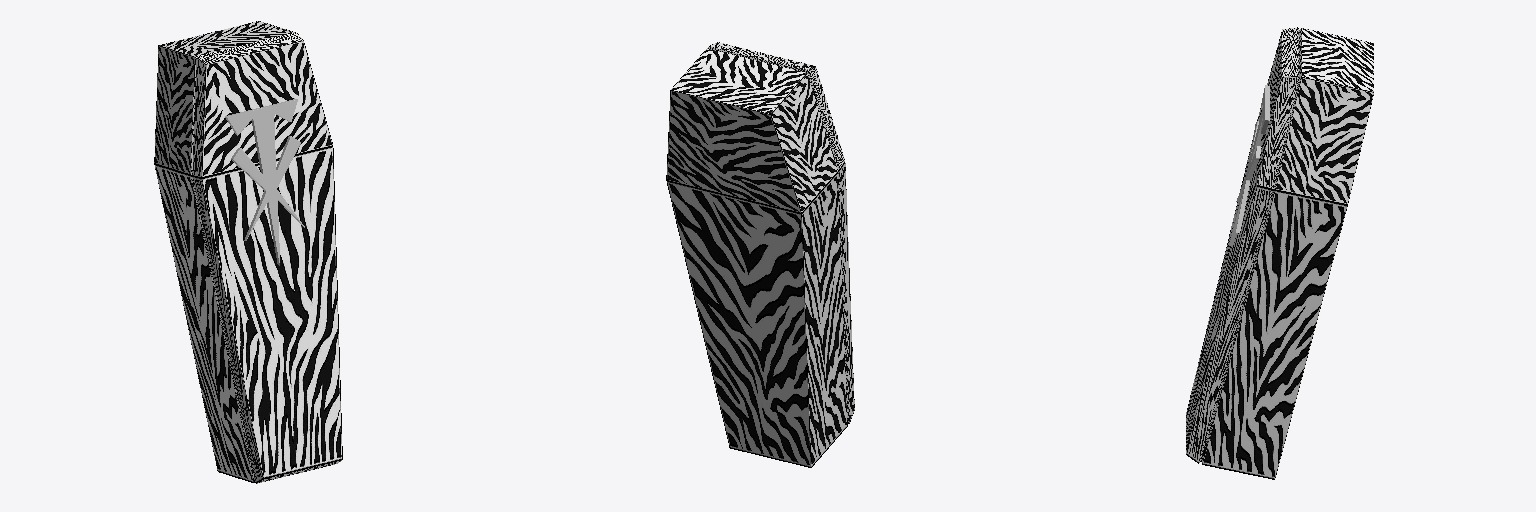
3 views of the same model, side by side, from view 1: azimuth 30°, elevation 25°; view 2: azimuth 150°, elevation 25°; view 3: azimuth 270°, elevation 25° (orthographic).
Visible parts, largest first — view 1: coffin_Cube.002, symbol_Cube.001; view 2: coffin_Cube.002; view 3: coffin_Cube.002, symbol_Cube.001.
Boxes of the visible parts, x1,y1,x2,y2 form: coffin_Cube.002: [154, 21, 342, 483]; symbol_Cube.001: [225, 99, 304, 265]; coffin_Cube.002: [666, 42, 854, 467]; coffin_Cube.002: [1186, 27, 1373, 479]; symbol_Cube.001: [1229, 85, 1269, 246].
Bounding box in the file's own units: 2.69 × 7.75 × 3.25.
Materials: 2 (1 with a texture image).